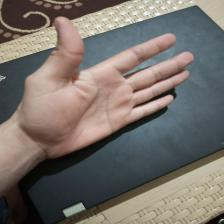five: (38, 17, 194, 133)
